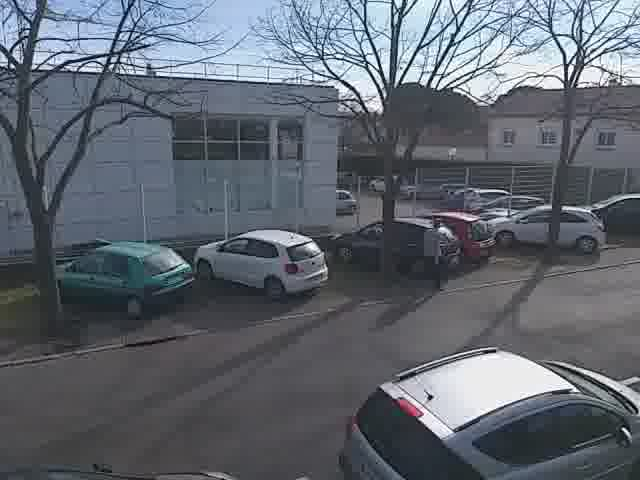persona: (413, 210, 451, 295)
